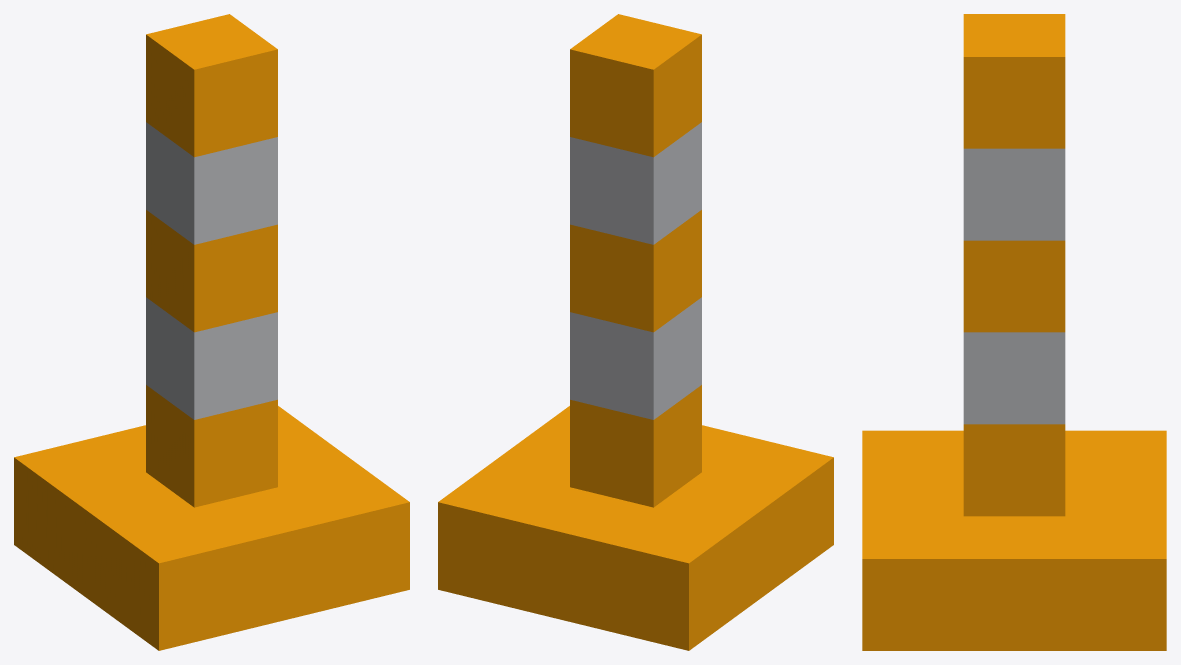
File: traffic_cone.obj
The picture shows the model from 3 angles, left to right: view 1: azimuth 30°, elevation 25°; view 2: azimuth 150°, elevation 25°; view 3: azimuth 270°, elevation 25°; orthographic projection. The views are drawn at different scales.
Size of the model in its own units: 0.3 by 0.6 by 0.3.
Materials: 1 (1 with a texture image).
